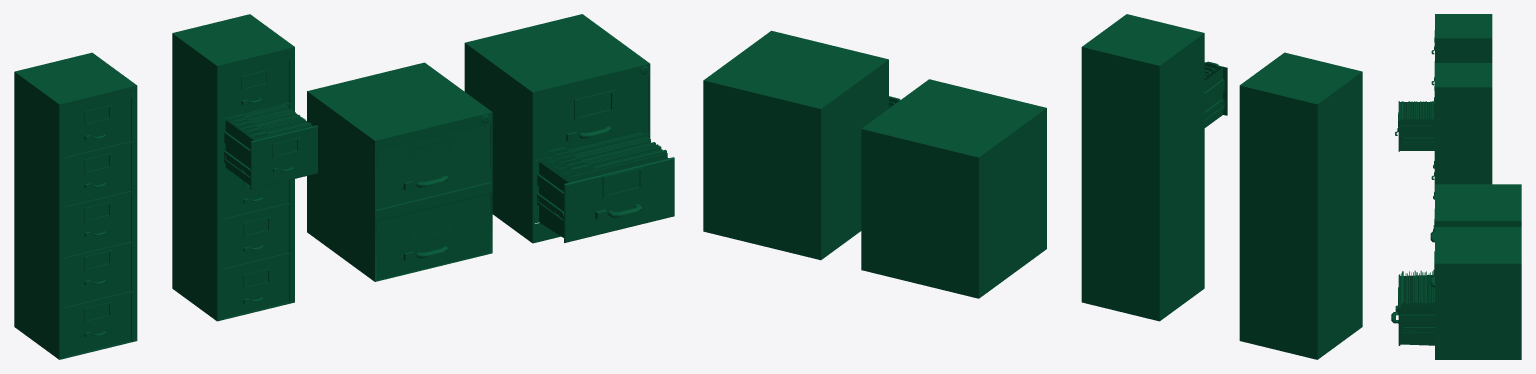
The model's file is file cabinets.fbx.
3 renders of one model, left to right at view 1: azimuth 30°, elevation 25°; view 2: azimuth 150°, elevation 25°; view 3: azimuth 270°, elevation 25°, orthographic. The views are drawn at different scales.
Parts seen in each view (by area): view 1: filecabopen, smallcabopen, filecabinet, smallcab; view 2: filecabopen, filecabinet, smallcab, smallcabopen; view 3: smallcabopen, filecabopen, smallcab, filecabinet.
Part boxes in pixels (left/top/right/bottom): filecabopen: left=172, top=14, right=317, bottom=321; smallcabopen: left=464, top=14, right=674, bottom=243; filecabinet: left=14, top=52, right=137, bottom=359; smallcab: left=307, top=62, right=492, bottom=281; filecabopen: left=1081, top=14, right=1227, bottom=321; filecabinet: left=1239, top=52, right=1362, bottom=359; smallcab: left=861, top=79, right=1046, bottom=298; smallcabopen: left=703, top=30, right=900, bottom=260; smallcabopen: left=1391, top=227, right=1521, bottom=359; filecabopen: left=1395, top=63, right=1492, bottom=231; smallcab: left=1430, top=184, right=1521, bottom=242; filecabinet: left=1431, top=14, right=1492, bottom=179.
Size of the model in its own units: 375 by 155 by 112.
